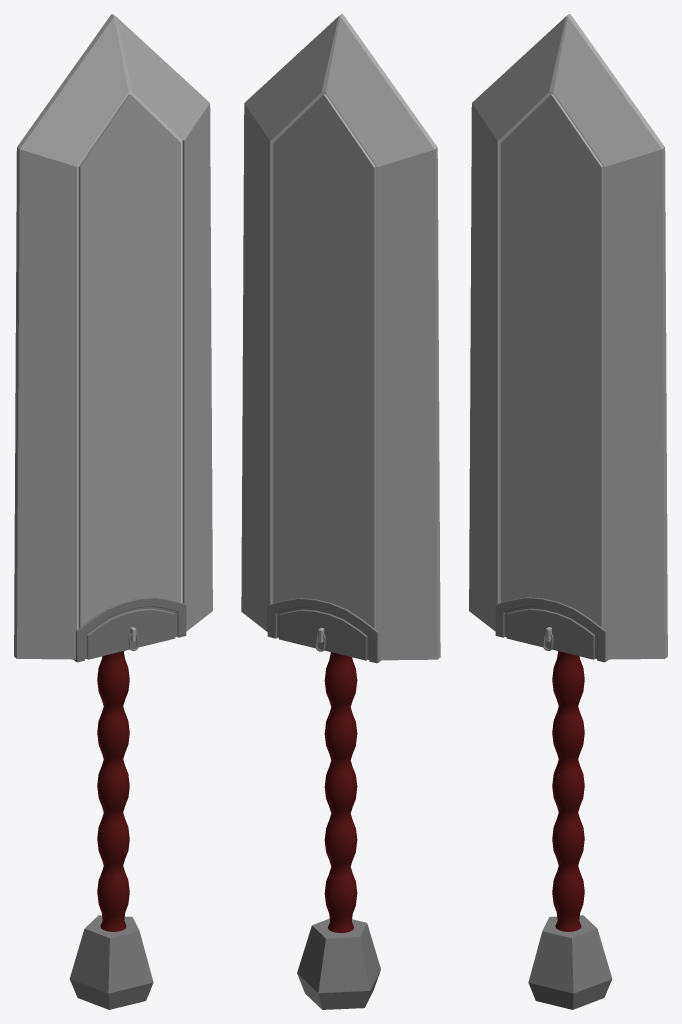
The model's file is Big ass sword.fbx.
The picture shows the model from 3 angles, left to right: view 1: azimuth 30°, elevation 25°; view 2: azimuth 150°, elevation 25°; view 3: azimuth 330°, elevation 25°; orthographic projection.
Parts seen in each view (by area): view 1: Greatsword; view 2: Greatsword; view 3: Greatsword.
Part boxes in pixels (x1,y1,x2,y2): Greatsword: [14, 14, 212, 1009]; Greatsword: [241, 14, 440, 1009]; Greatsword: [469, 14, 667, 1009].
Bounding box in the file's own units: 196 × 936 × 76.5.
